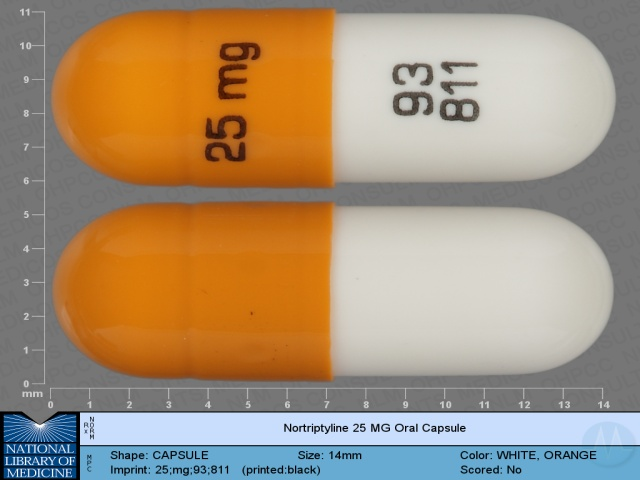1: (436, 76, 483, 96), (435, 59, 482, 76)
2: (201, 139, 250, 167)
3: (386, 60, 436, 89)
5: (202, 111, 252, 140)
8: (437, 95, 483, 126)
9: (389, 89, 438, 119)
capsule: (48, 3, 621, 192), (50, 195, 621, 384)
mg: (213, 40, 261, 106)
